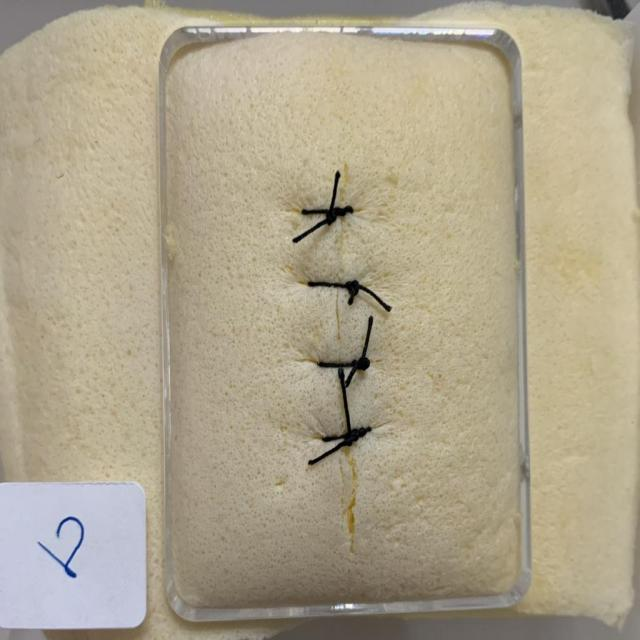knot: (345, 429, 366, 448), (326, 208, 344, 224), (352, 358, 370, 370), (346, 281, 358, 296)
leftover: (306, 432, 359, 467), (291, 209, 340, 245), (351, 281, 392, 313), (337, 364, 352, 439), (359, 312, 373, 367), (329, 168, 340, 215), (342, 361, 359, 390), (346, 281, 355, 307)
stitch: (320, 431, 368, 443), (316, 360, 372, 369), (305, 281, 361, 289), (299, 209, 347, 216)
wound: (333, 160, 356, 550)
